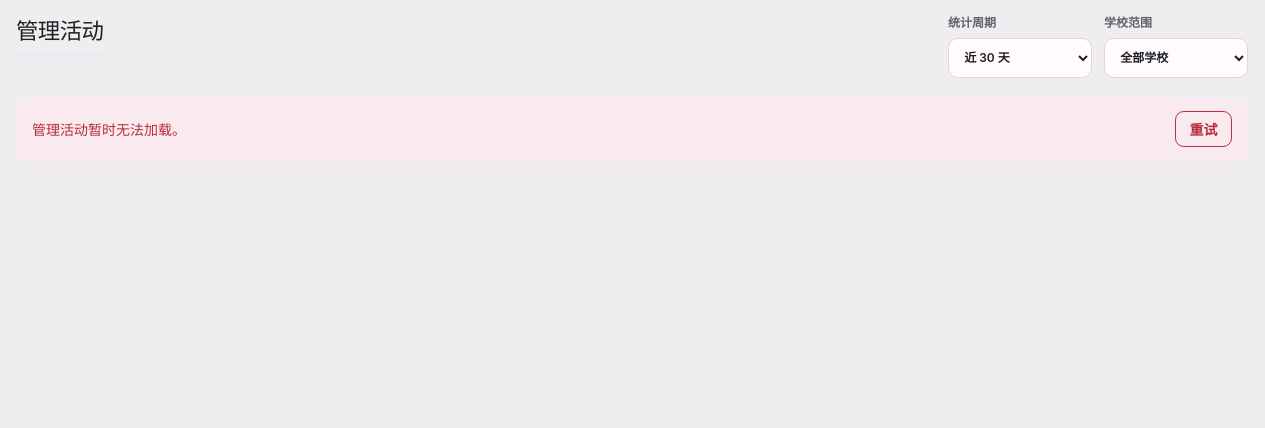
ActivityPanel › shows a retry after an activity failure
Expected: the message shows "管理活动暂时无法加载", [32,121,186,138]
What coordinates should you click on to do the following:
click the button "重试"
I would click on:
 (1203, 129)
Its box is [1175,111,1232,147].
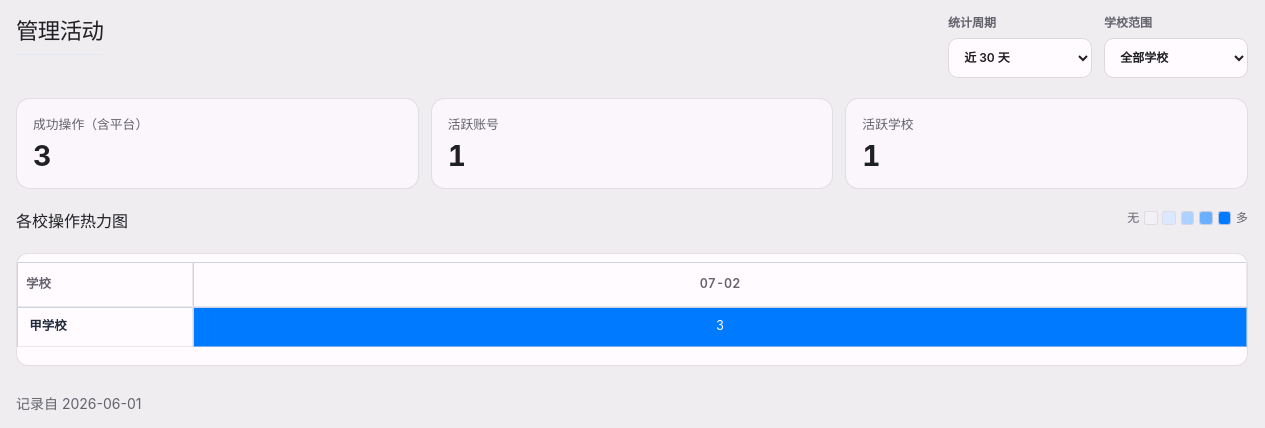
Now the cell named "甲学校，2026-07-02，3 次管理操作" is shown, box [193,307,1247,347]
